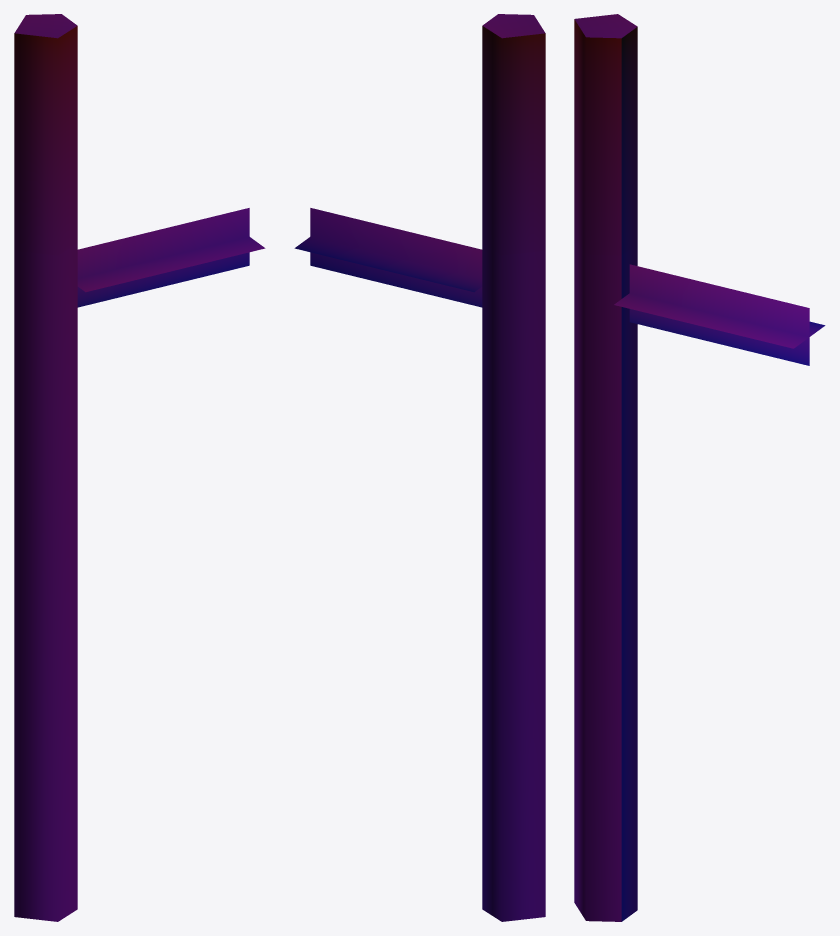
3 renders of one model, left to right at view 1: azimuth 30°, elevation 25°; view 2: azimuth 150°, elevation 25°; view 3: azimuth 330°, elevation 25°, orthographic.
Parts seen in each view (by area): view 1: part; view 2: part; view 3: part.
Part boxes in pixels (x1,y1,x2,y2): part: (14,14,265,921); part: (294,14,545,921); part: (574,14,825,921).
Size of the model in its own units: 2193 by 7869 by 516.
